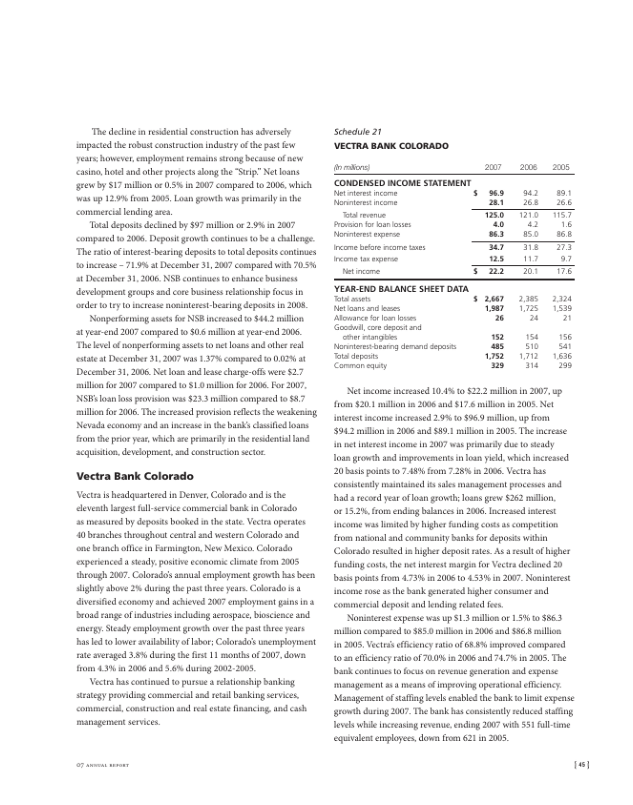table: (331, 156, 573, 380)
